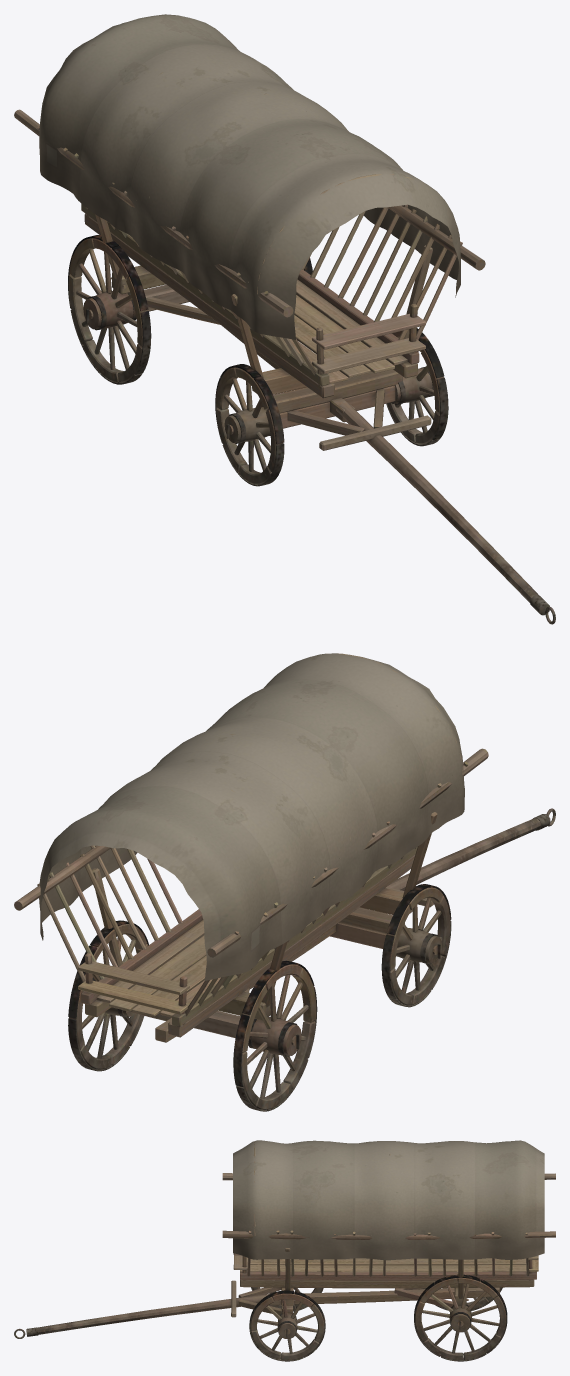
File: zebrinak_plachta_1.glb
3 views of the same model, one above another, from view 1: azimuth 30°, elevation 25°; view 2: azimuth 150°, elevation 25°; view 3: azimuth 270°, elevation 25° (orthographic). The views are drawn at different scales.
Visible parts, largest first — view 1: zebrinak_plachta_1_plachta, zebrinak_plachta_1; view 2: zebrinak_plachta_1_plachta, zebrinak_plachta_1; view 3: zebrinak_plachta_1_plachta, zebrinak_plachta_1.
Part boxes in pixels (left/top/right/bottom): zebrinak_plachta_1_plachta: left=39, top=14, right=460, bottom=339; zebrinak_plachta_1: left=14, top=55, right=555, bottom=624; zebrinak_plachta_1_plachta: left=39, top=653, right=464, bottom=980; zebrinak_plachta_1: left=14, top=653, right=555, bottom=1111; zebrinak_plachta_1_plachta: left=233, top=1140, right=544, bottom=1260; zebrinak_plachta_1: left=14, top=1141, right=555, bottom=1361.
Size of the model in its own units: 1.73 by 2.43 by 6.26.
Materials: 2 (2 with a texture image).
